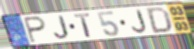5: (96, 10, 120, 37)
D: (146, 6, 173, 34)
J: (131, 9, 149, 34), (53, 16, 71, 40)
P: (23, 15, 47, 45)
T: (73, 12, 94, 39)
